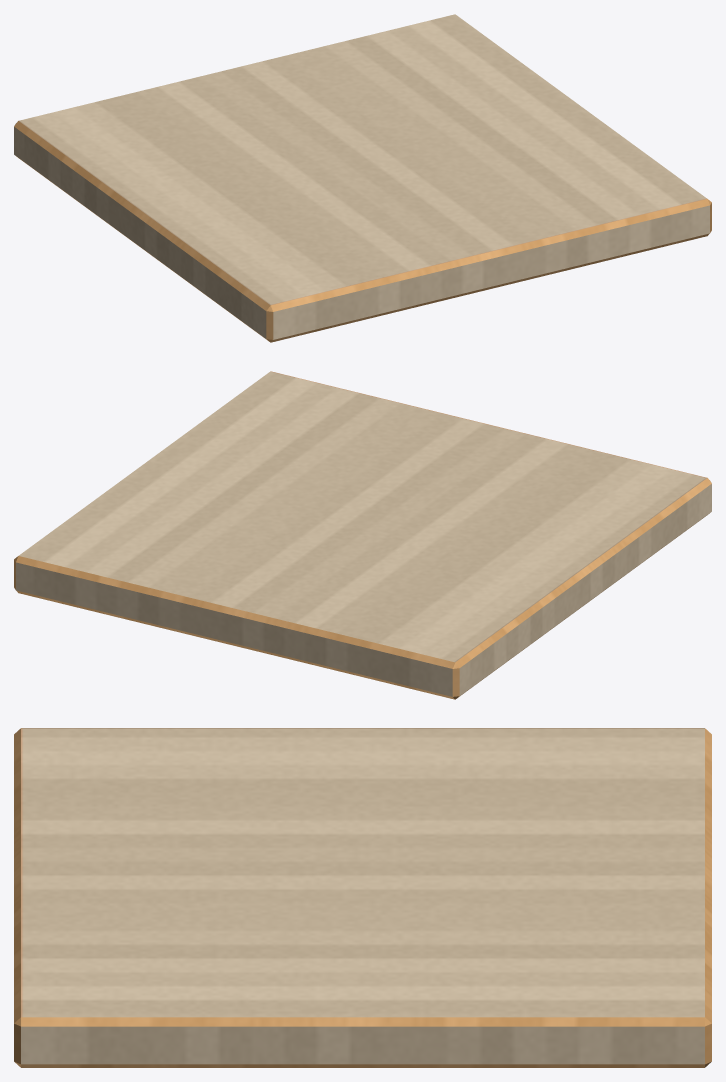
Rendered from sm_terrain_tile_ground.glb.
3 views of the same model, one above another, from view 1: azimuth 30°, elevation 25°; view 2: azimuth 150°, elevation 25°; view 3: azimuth 270°, elevation 25° (orthographic). The views are drawn at different scales.
Parts seen in each view (by area): view 1: sm_terrain_tile_ground; view 2: sm_terrain_tile_ground; view 3: sm_terrain_tile_ground.
Boxes of the visible parts, x1,y1,x2,y2 form: sm_terrain_tile_ground: [14, 14, 711, 342]; sm_terrain_tile_ground: [14, 371, 711, 699]; sm_terrain_tile_ground: [14, 728, 711, 1067].
Bounding box in the file's own units: 1 × 0.08 × 1.
Materials: 1 (1 with a texture image).
